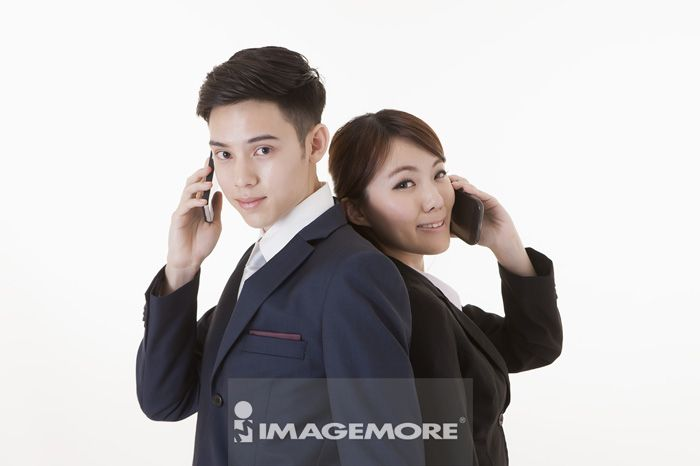phone: (451, 189, 484, 248), (196, 148, 219, 222)
talk: (163, 131, 300, 257), (385, 153, 517, 265)
